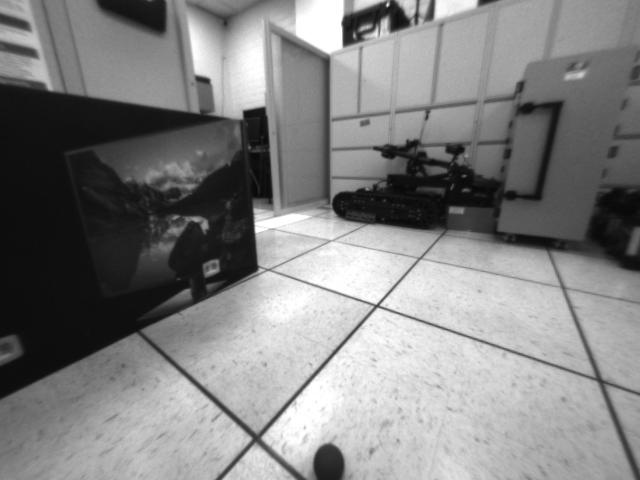dogtoy: (309, 436, 354, 480)
